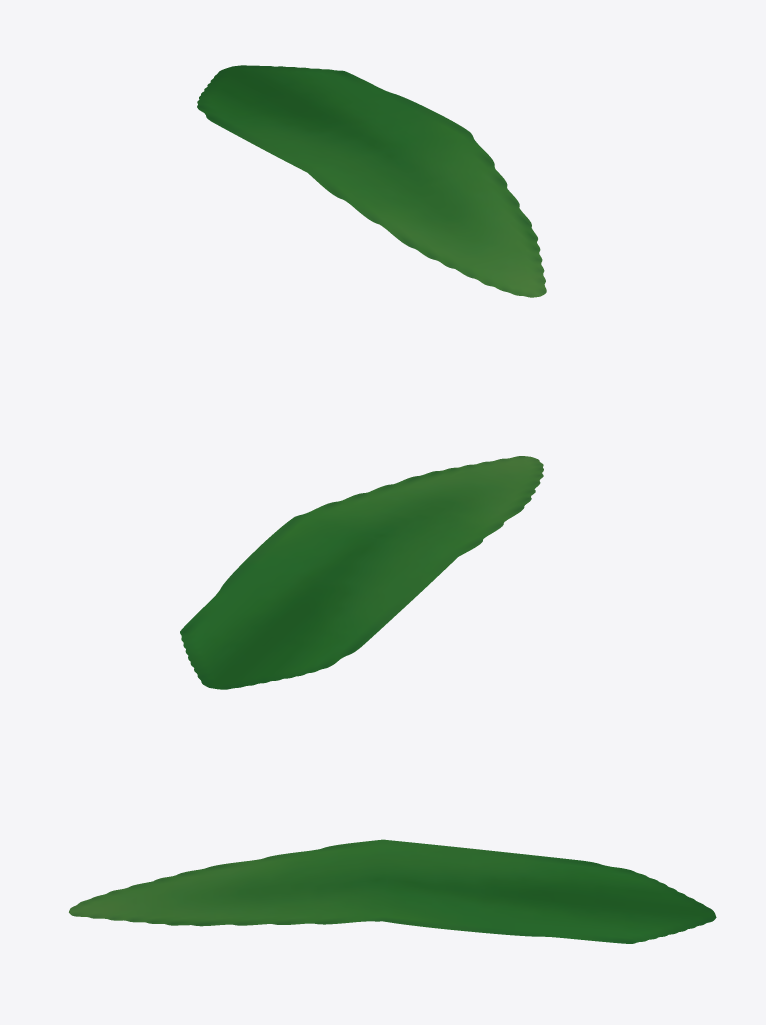
Rendered from efx_sy.FBX.
The picture shows the model from 3 angles, top to bottom: view 1: azimuth 30°, elevation 25°; view 2: azimuth 150°, elevation 25°; view 3: azimuth 270°, elevation 25°; orthographic projection. The views are drawn at different scales.
Visible parts, largest first — view 1: efx_sy; view 2: efx_sy; view 3: efx_sy.
Part boxes in pixels (box(x1,y1,x2,y2)): efx_sy: box(197, 65, 546, 297); efx_sy: box(180, 456, 543, 689); efx_sy: box(69, 839, 716, 943).
Bounding box in the file's own units: 0.1446 × 0.0137 × 0.2367.
